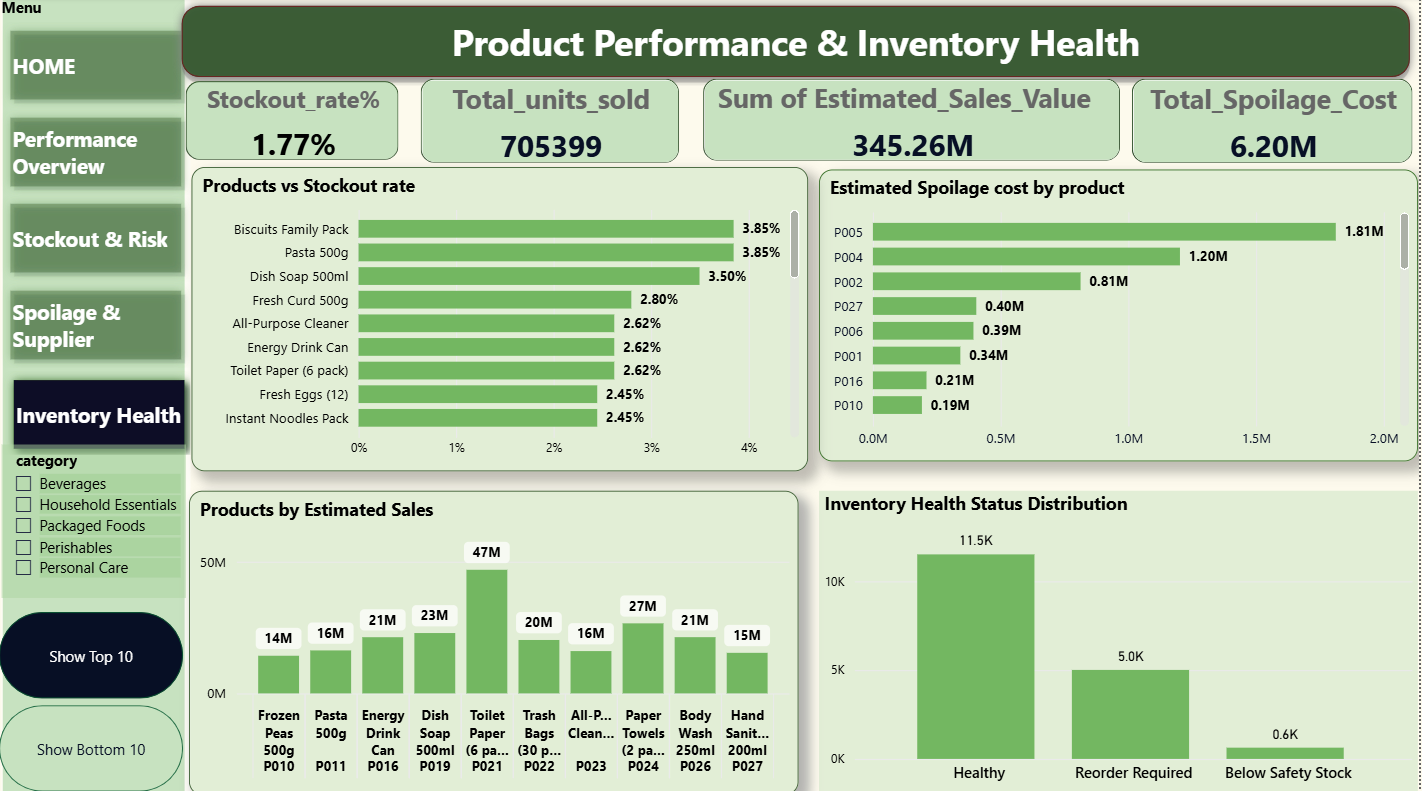

The page's visual inventory and layout, read from the dashboard file:
{"tool":"powerbi","page":{"name":"Inventory Health","canvas":[1280,720],"ordinal":4},"visuals":[{"type":"clusteredBarChart","title":"Products vs Stockout rate","fields":{"Category":["Product_table1.product_name"],"Y":["inventory_ledger_cleaned.Stockout_rate%"]},"box":[174,152.9,556.2,274.1],"z":0},{"type":"group","id":"g1","title":"Group 3","box":[1.9,0,170,718.9],"z":1000},{"type":"lineStackedColumnComboChart","title":"Products by Estimated Sales","fields":{"Category":["inventory_ledger_cleaned.product_id","Product_table1.product_name"],"Y":["Sum(inventory_ledger_cleaned.Estimated_Sales_Value)"]},"box":[171.3,445.5,549.6,274.1],"z":2000},{"type":"slicer","fields":{"Values":["inventory_ledger_cleaned.category"]},"box":[2.5,403.3,166.7,138.7],"z":3000},{"type":"clusteredBarChart","title":"Estimated Spoilage cost by product","fields":{"Category":["Product_table1.product_name","inventory_ledger_cleaned.product_id"],"Y":["inventory_ledger_cleaned.Total_Spoilage_Cost"]},"box":[739.4,155.5,540.4,263.6],"z":4000},{"type":"shape","box":[156.5,0,1123.5,80.2],"z":5000},{"type":"cardVisual","fields":{"Data":["Sum(inventory_ledger_cleaned.Estimated_Sales_Value)"]},"box":[630,68.5,386.2,84.4],"z":6000},{"type":"cardVisual","fields":{"Data":["inventory_ledger_cleaned.Total_Spoilage_Cost"]},"box":[1016.6,68.7,263.4,86.5],"z":7000},{"type":"cardVisual","fields":{"Data":["inventory_ledger_cleaned.Total_units_sold"]},"box":[375.6,68.5,243.8,87],"z":8000},{"type":"shape","box":[2.5,0,164.1,718.9],"z":9000,"group":"g2"},{"type":"bookmarkNavigator","box":[0,554.9,166.1,163.4],"z":9000},{"type":"group","id":"g2","title":"Group 1","box":[1.9,0,170,718.9],"z":9501,"group":"g3"},{"type":"pageNavigator","title":"Menu","box":[1.9,0,170,414],"z":10000,"group":"g2"},{"type":"cardVisual","fields":{"Data":["inventory_ledger_cleaned.Stockout_rate"]},"box":[163.9,71.5,202.1,81.3],"z":10000},{"type":"clusteredColumnChart","title":"Inventory Health Status Distribution","fields":{"Category":["inventory_ledger_cleaned.Inventory Health Status"],"Y":["inventory_ledger_cleaned.Total_Inventory_Records"]},"box":[739,445,540,274],"z":11000},{"type":"group","id":"g3","title":"Group 2","box":[1.9,0,170,718.9],"z":13002,"group":"g1"}]}

Visuals, with their boxes on the page's 1280x720 design canvas (x1, y1, x2, y2). These are canvas units, not pixel positions in the 1422x791 screenshot, which may show the page scaled, cropped or inside an application window:
"Products vs Stockout rate" clusteredBarChart: <bbox>174, 153, 730, 427</bbox>
"Group 3" group: <bbox>2, 0, 172, 719</bbox>
"Products by Estimated Sales" lineStackedColumnComboChart: <bbox>171, 446, 721, 720</bbox>
slicer - inventory_ledger_cleaned.category: <bbox>2, 403, 169, 542</bbox>
"Estimated Spoilage cost by product" clusteredBarChart: <bbox>739, 156, 1280, 419</bbox>
shape: <bbox>156, 0, 1280, 80</bbox>
cardVisual - Sum(inventory_ledger_cleaned.Estimated_Sales_Value): <bbox>630, 68, 1016, 153</bbox>
cardVisual - inventory_ledger_cleaned.Total_Spoilage_Cost: <bbox>1017, 69, 1280, 155</bbox>
cardVisual - inventory_ledger_cleaned.Total_units_sold: <bbox>376, 68, 619, 156</bbox>
shape: <bbox>2, 0, 167, 719</bbox>
bookmarkNavigator: <bbox>0, 555, 166, 718</bbox>
"Group 1" group: <bbox>2, 0, 172, 719</bbox>
"Menu" pageNavigator: <bbox>2, 0, 172, 414</bbox>
cardVisual - inventory_ledger_cleaned.Stockout_rate: <bbox>164, 72, 366, 153</bbox>
"Inventory Health Status Distribution" clusteredColumnChart: <bbox>739, 445, 1279, 719</bbox>
"Group 2" group: <bbox>2, 0, 172, 719</bbox>
